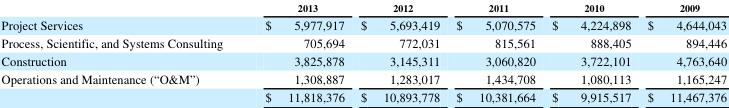table: (0, 0, 726, 104)
table column: (0, 0, 243, 104), (243, 0, 352, 104), (447, 0, 543, 104), (352, 0, 447, 104), (543, 0, 638, 104), (638, 0, 726, 104)
table column header: (0, 0, 726, 15)
table row: (0, 68, 726, 87), (0, 15, 726, 33), (0, 33, 726, 51), (0, 51, 726, 68), (0, 87, 726, 104), (0, 0, 726, 15)
